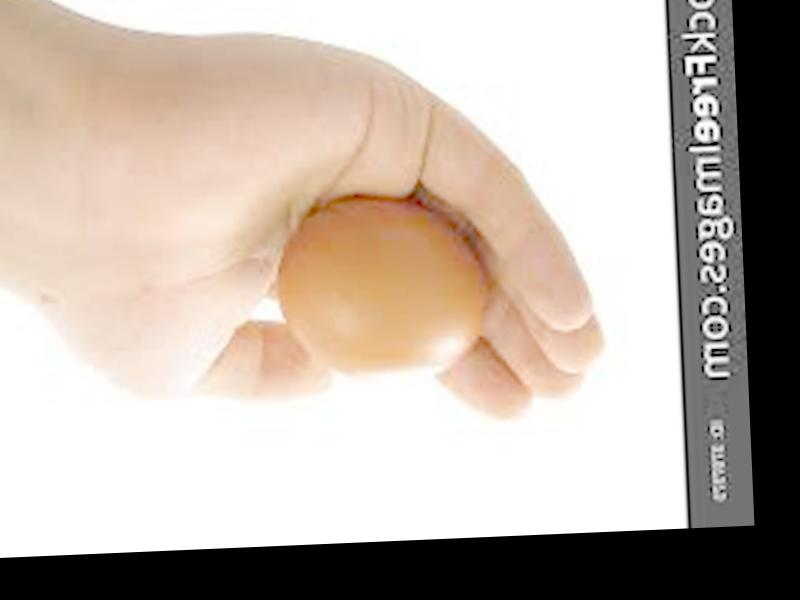Eggs: (272, 196, 504, 381)
